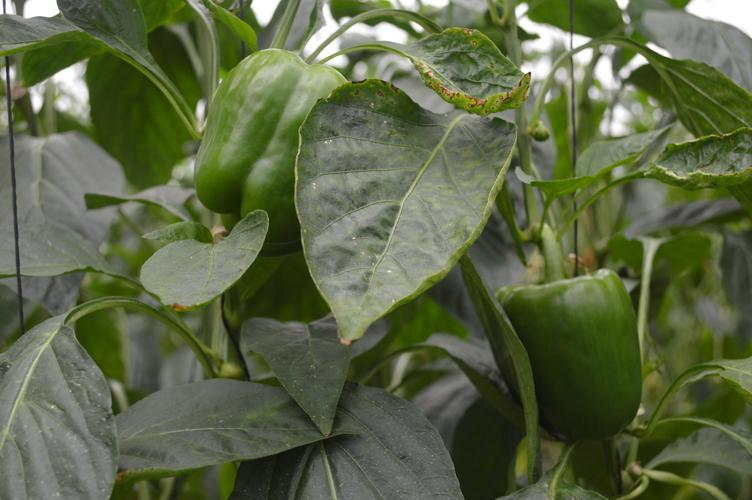BellPepper: (190, 44, 355, 268), (488, 269, 656, 448)
